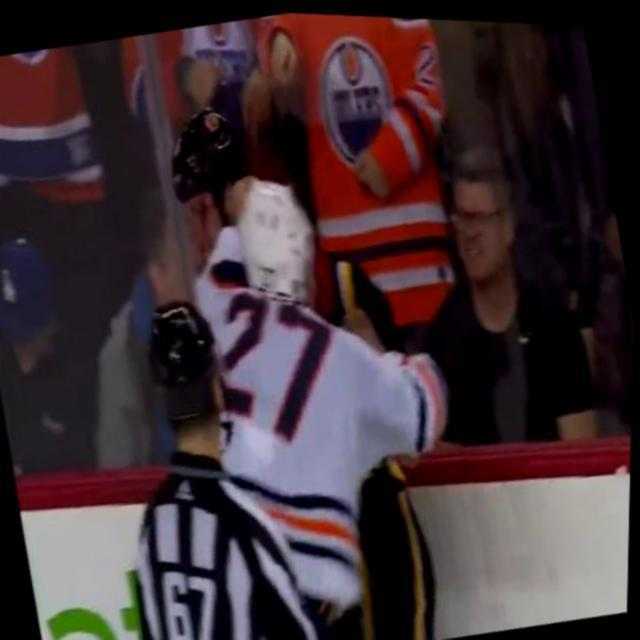fight: (146, 69, 503, 640)
